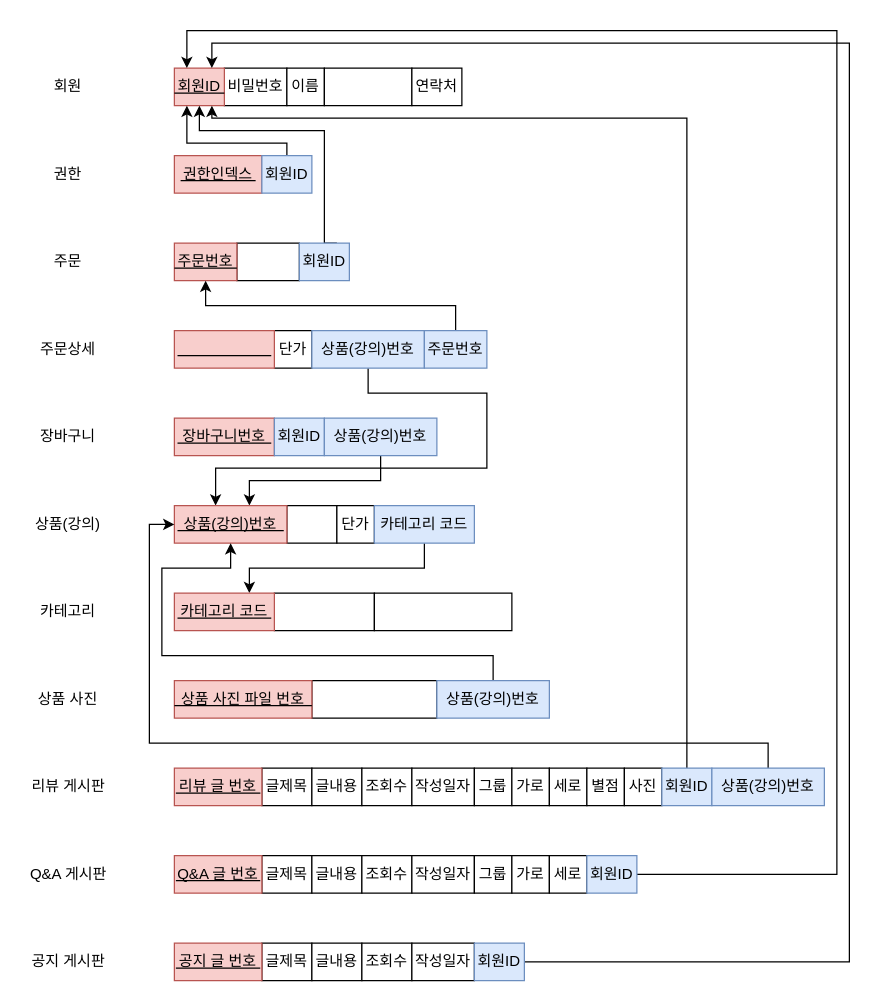
Some shapes in this 881 by 1003 pixel diagram are drawn without their labels. Each missing label, with the centre of its shape:
"E-mail 주소" goes at point 367,86.
"상품 사진 파일명" goes at point 374,698.
"상품명" goes at point 311,523.
"주문날짜" goes at point 267,261.
"주문상세번호" goes at point 223,348.
"참조(상위) 카테고리" goes at point 442,611.
"카테고리 이름" goes at point 323,611.
